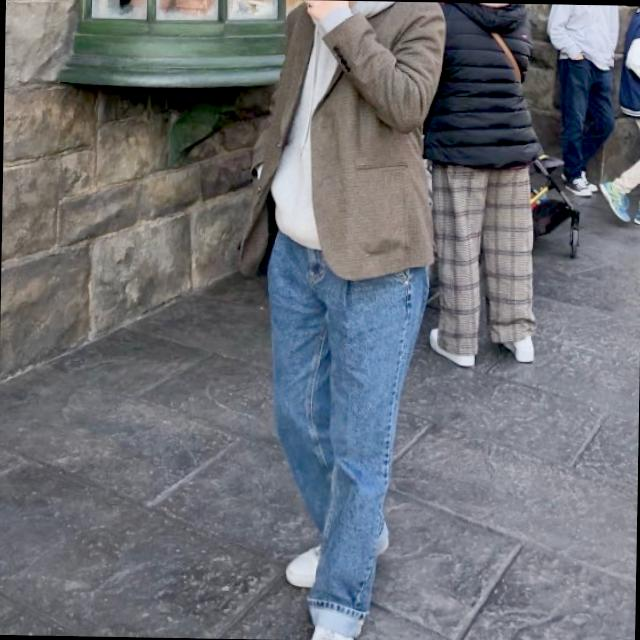blazer: (233, 0, 444, 284)
denimpants: (261, 218, 428, 636)
hoodies: (271, 0, 431, 255)
